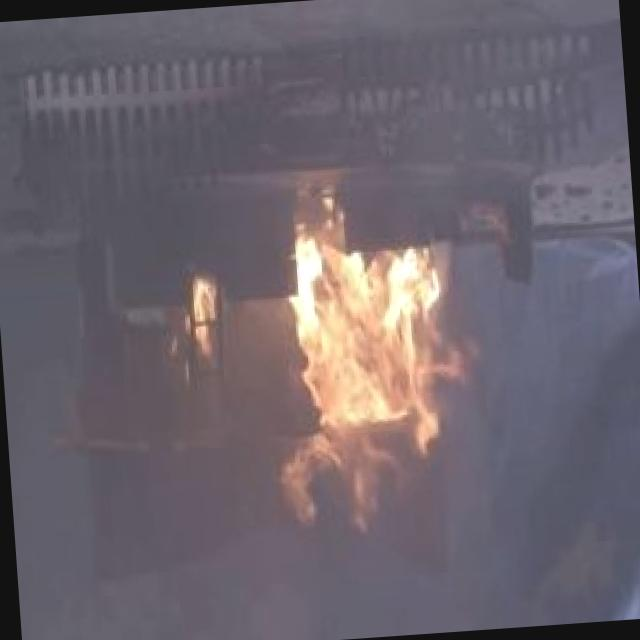fire: (262, 194, 483, 539)
